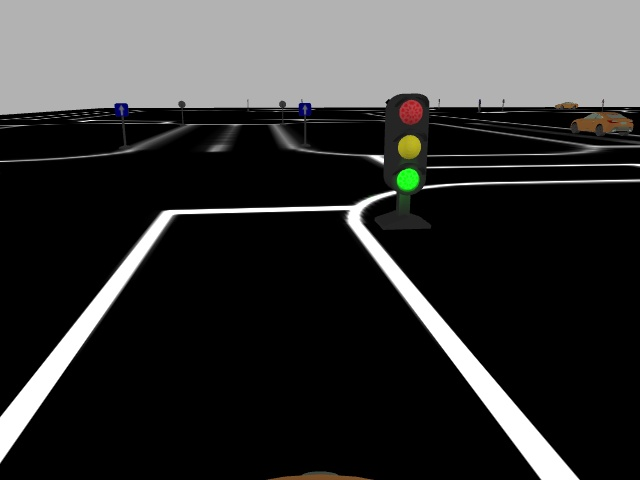green_light: (380, 92, 430, 197)
oneway: (113, 102, 130, 118), (297, 103, 313, 119)
